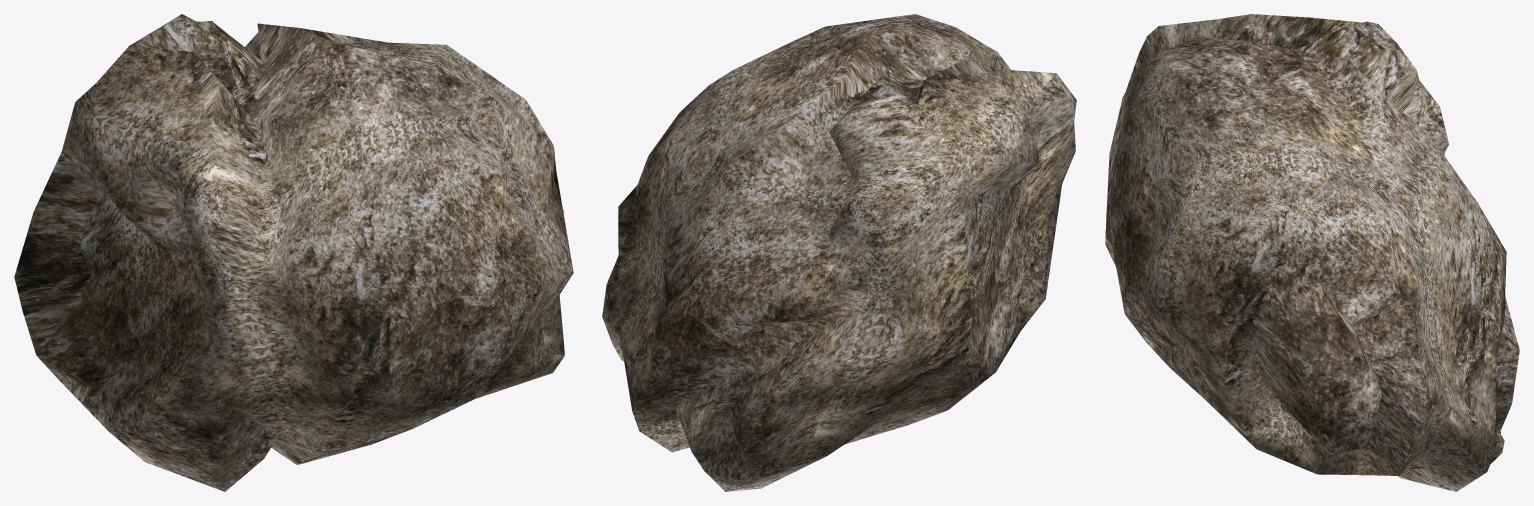
The model's file is Asteroid_10_L2.FBX.
The picture shows the model from 3 angles, left to right: view 1: azimuth 30°, elevation 25°; view 2: azimuth 150°, elevation 25°; view 3: azimuth 270°, elevation 25°; orthographic projection. The views are drawn at different scales.
Parts seen in each view (by area): view 1: Asteroid; view 2: Asteroid; view 3: Asteroid.
Boxes of the visible parts, <box> form: Asteroid: <box>14,14,573,491</box>; Asteroid: <box>602,14,1076,491</box>; Asteroid: <box>1105,14,1519,491</box>.
Size of the model in its own units: 2.34 by 2.34 by 2.12.
